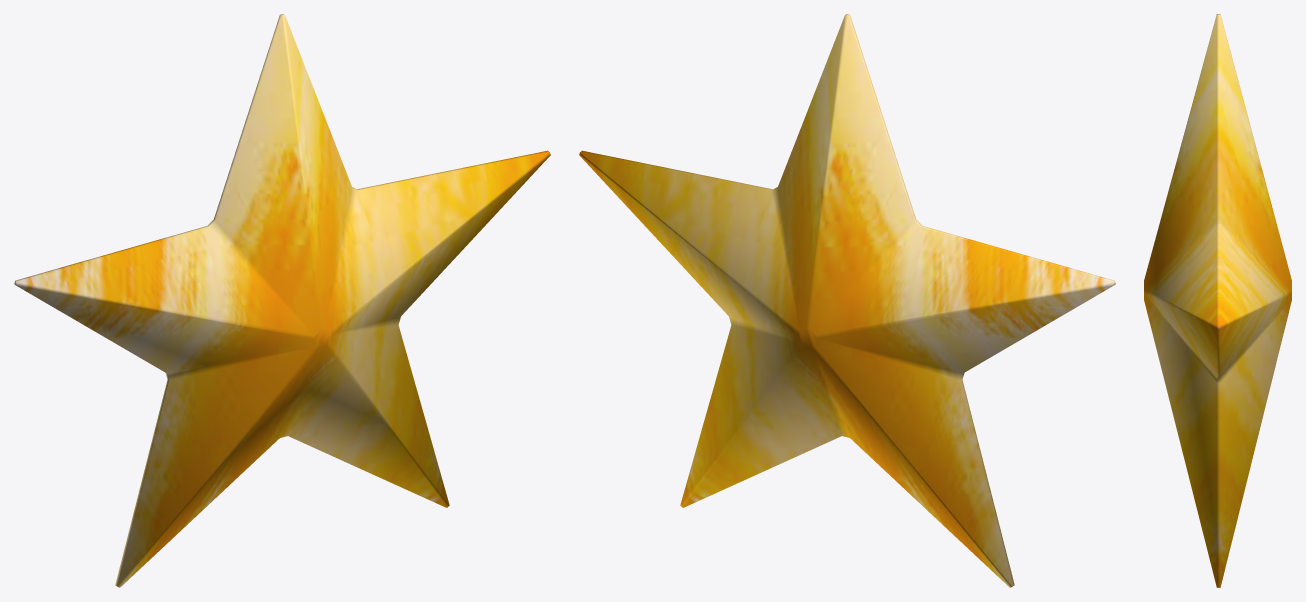
Rendered from Estrella.obj.
The picture shows the model from 3 angles, left to right: view 1: azimuth 30°, elevation 25°; view 2: azimuth 150°, elevation 25°; view 3: azimuth 270°, elevation 25°; orthographic projection. The views are drawn at different scales.
Visible parts, largest first — view 1: Cylinder01; view 2: Cylinder01; view 3: Cylinder01.
Boxes of the visible parts, <box> form: Cylinder01: <box>14,14,550,587</box>; Cylinder01: <box>579,14,1115,587</box>; Cylinder01: <box>1144,14,1291,587</box>.
Size of the model in its own units: 374 by 356 by 95.67.
